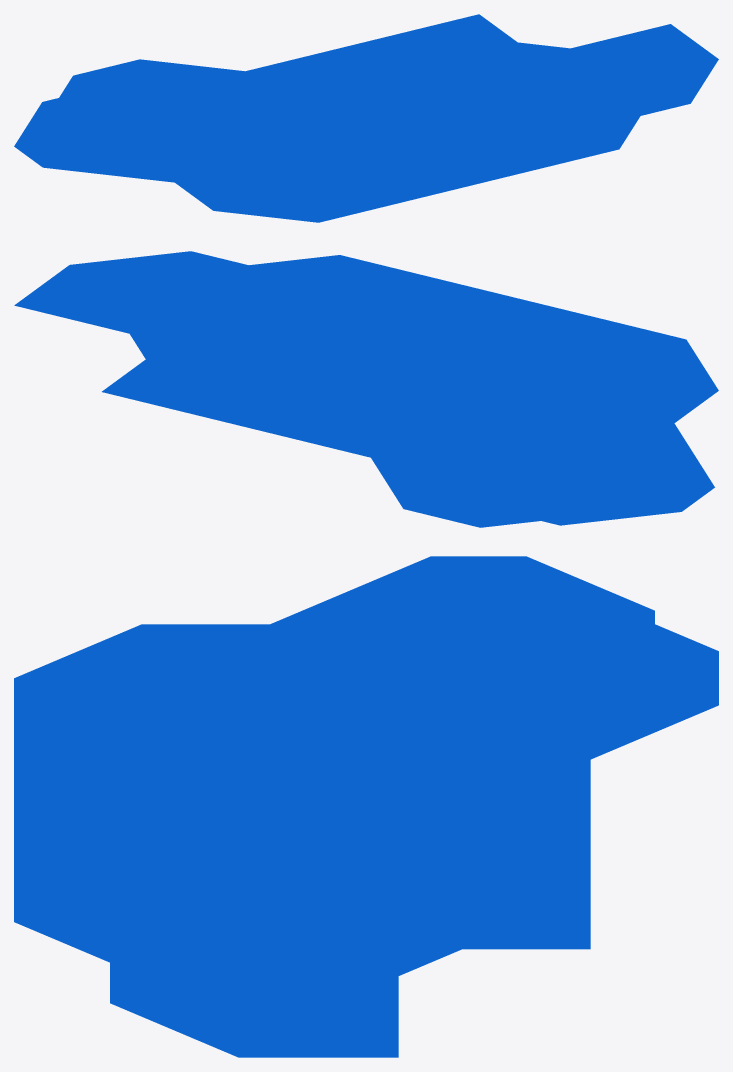
File: SM_MainLevel_Ground_3.fbx
The picture shows the model from 3 angles, top to bottom: view 1: azimuth 30°, elevation 25°; view 2: azimuth 150°, elevation 25°; view 3: azimuth 270°, elevation 25°; orthographic projection. The views are drawn at different scales.
Visible parts, largest first — view 1: SM_MainLevel_Ground_3; view 2: SM_MainLevel_Ground_3; view 3: SM_MainLevel_Ground_3.
Boxes of the visible parts, x1,y1,x2,y2 form: SM_MainLevel_Ground_3: (14, 14, 718, 222); SM_MainLevel_Ground_3: (14, 251, 718, 527); SM_MainLevel_Ground_3: (14, 556, 718, 1057).
Bounding box in the file's own units: 37 × 7.79e-07 × 22.
